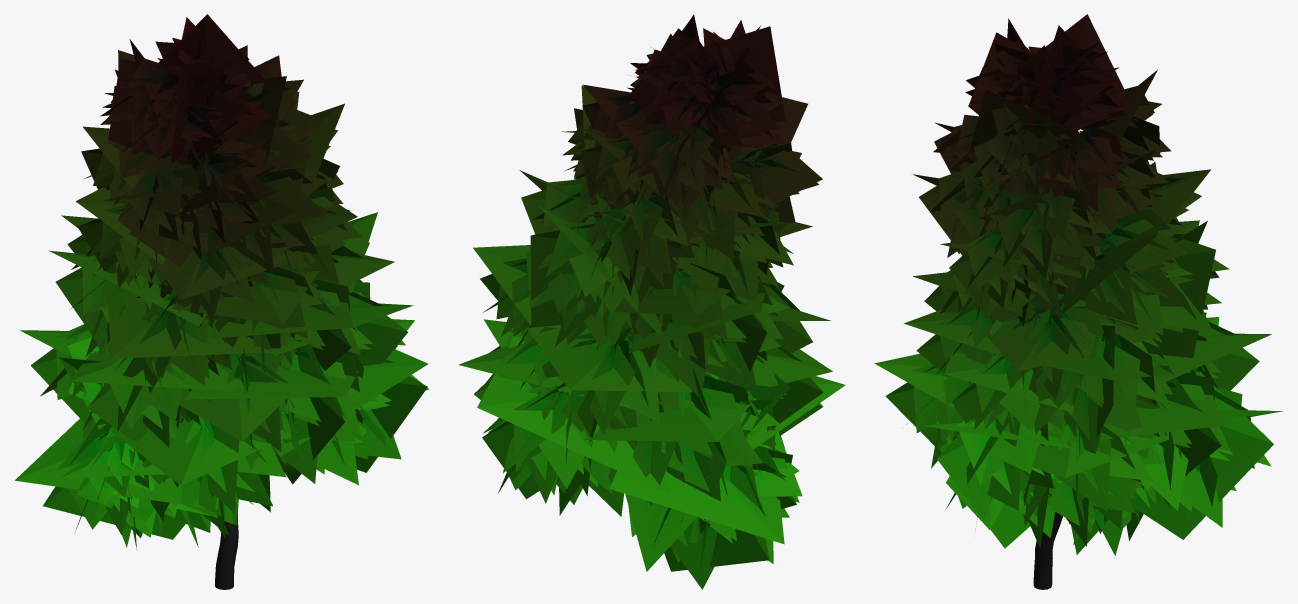
Rendered from birch_tree_4.FBX.
3 views of the same model, side by side, from view 1: azimuth 30°, elevation 25°; view 2: azimuth 150°, elevation 25°; view 3: azimuth 270°, elevation 25° (orthographic). The views are drawn at different scales.
Parts seen in each view (by area): view 1: birch_leaves_lod_0, birch_leaves_shadow, birch_trunk_lod_0; view 2: birch_leaves_lod_0, birch_leaves_shadow; view 3: birch_leaves_lod_0, birch_leaves_shadow, birch_trunk_lod_0.
Boxes of the visible parts, <box> form: birch_leaves_lod_0: <box>40,17,429,549</box>; birch_leaves_shadow: <box>15,14,428,539</box>; birch_trunk_lod_0: <box>215,514,238,589</box>; birch_leaves_lod_0: <box>483,20,820,589</box>; birch_leaves_shadow: <box>458,14,845,571</box>; birch_leaves_lod_0: <box>906,36,1271,554</box>; birch_leaves_shadow: <box>874,14,1283,555</box>; birch_trunk_lod_0: <box>1033,512,1062,589</box>.
Size of what is drawn, in the model's own units: 9.27 by 14.25 by 9.5.
